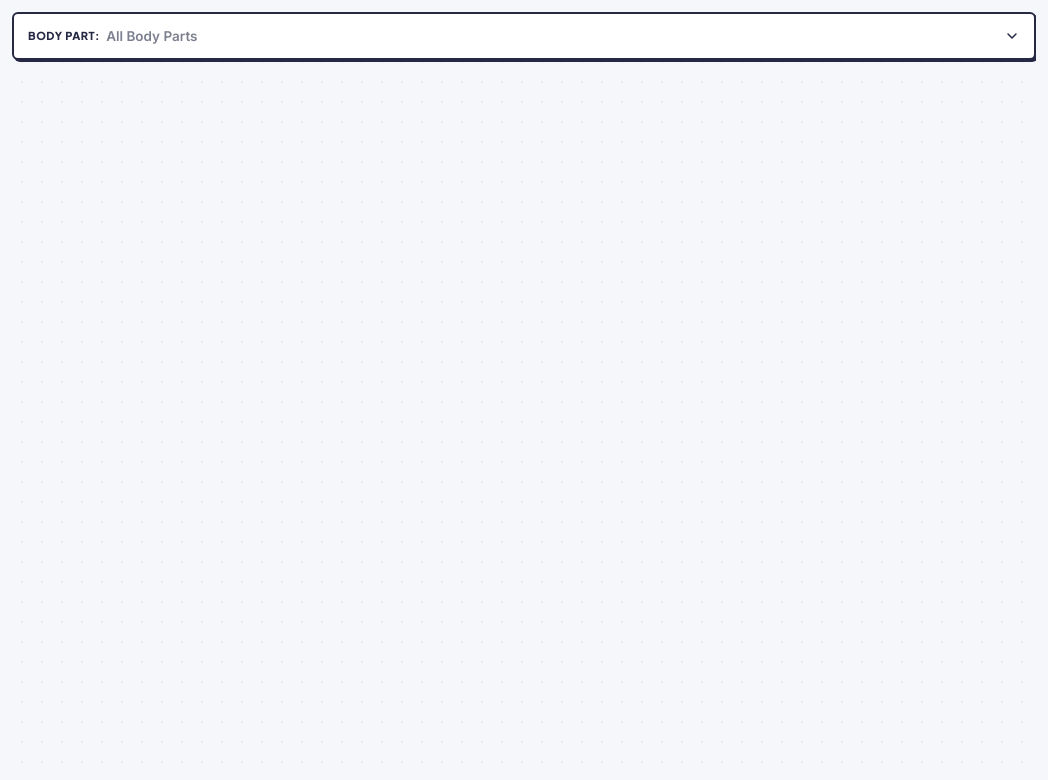
Test: FilterSelect Component & Option Normalization › renders and selects primitive string options cleanly
Later steps or results of the test are not shown.
Expected: the text "All Body Parts" is shown, [106,26,197,46]
// Click trigger to open using the accessible label "Body Part"
Click the button "Body Part: All Body Parts": [62, 35] box [12,12,1036,60]
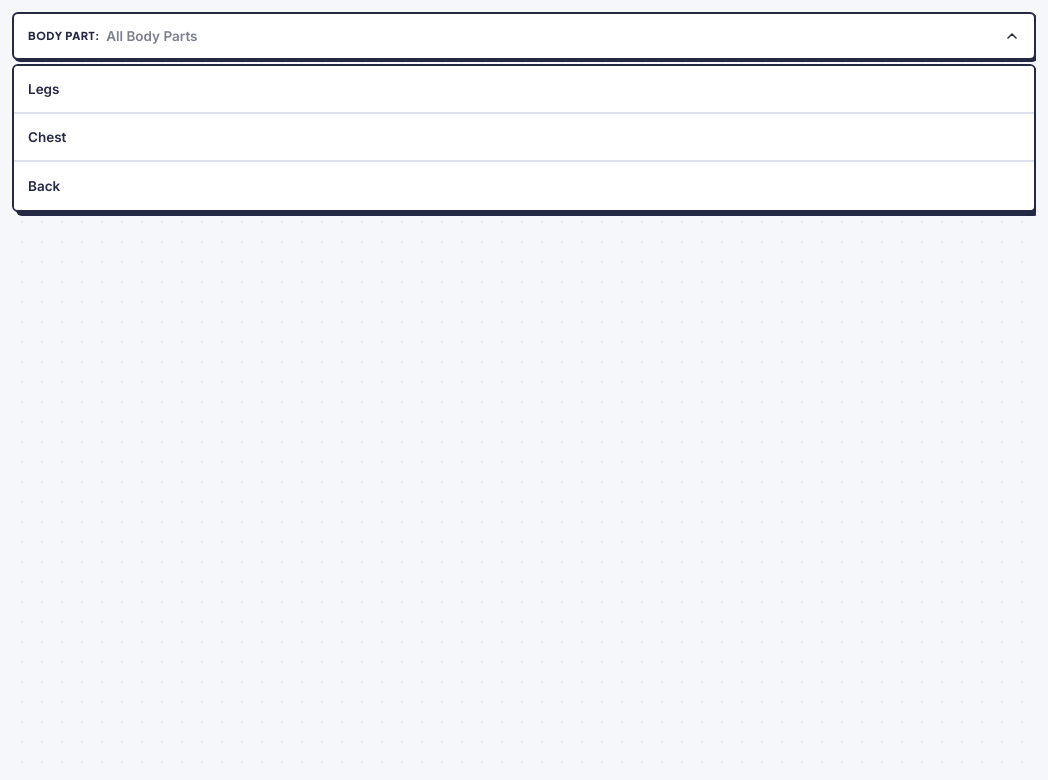
Result: the option "Legs" is shown at [14,66,1034,114]
Result: the option "Chest" is shown at [14,114,1034,162]
Result: the option "Back" is shown at [14,162,1034,210]
